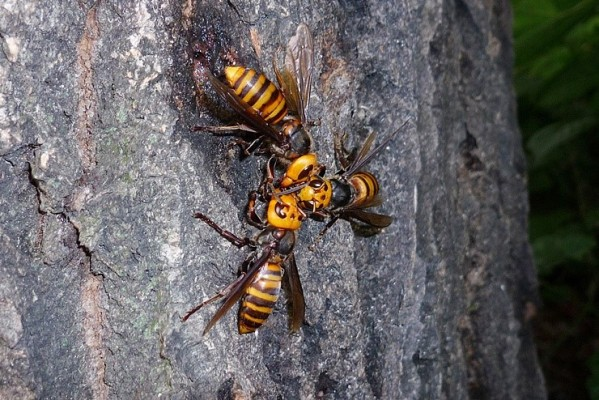asian_giant_hornet: (195, 175, 311, 341), (215, 48, 324, 180), (297, 157, 404, 227)
